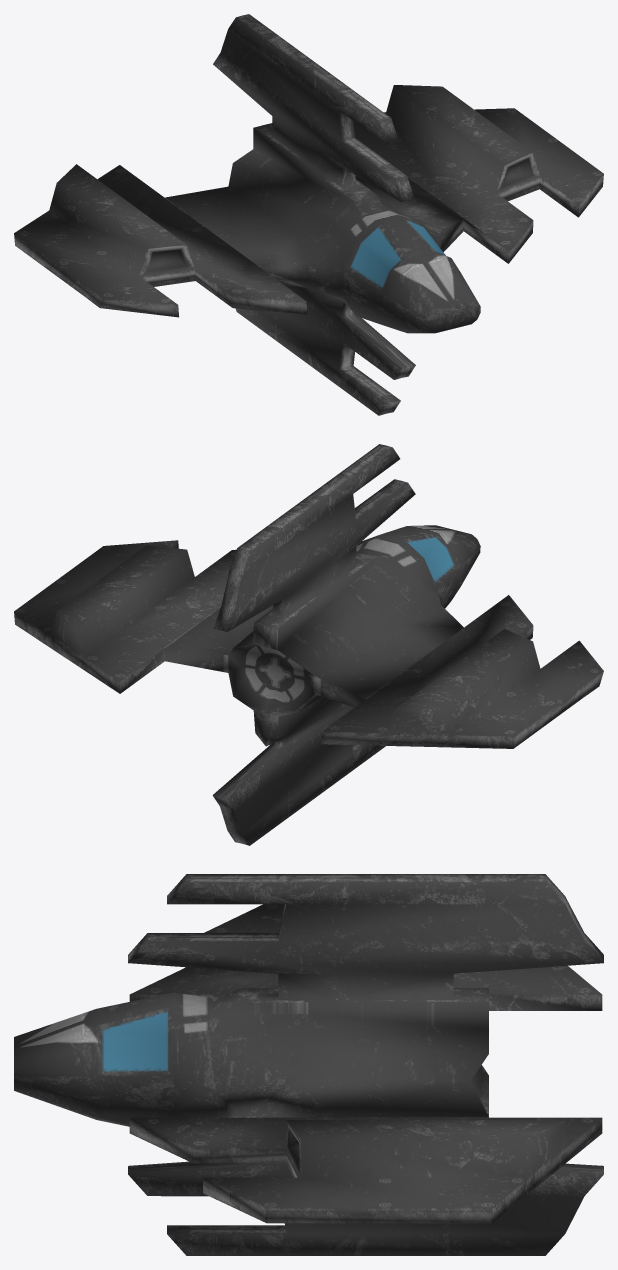
File: StrikeBack.mtl.obj
3 renders of one model, top to bottom at view 1: azimuth 30°, elevation 25°; view 2: azimuth 150°, elevation 25°; view 3: azimuth 270°, elevation 25°, orthographic. The views are drawn at different scales.
Parts seen in each view (by area): view 1: SSStrikeback.001_Cylinder.006; view 2: SSStrikeback.001_Cylinder.006; view 3: SSStrikeback.001_Cylinder.006.
Boxes of the visible parts, left/top/right/bottom form: SSStrikeback.001_Cylinder.006: left=14, top=14, right=603, bottom=415; SSStrikeback.001_Cylinder.006: left=14, top=444, right=603, bottom=845; SSStrikeback.001_Cylinder.006: left=14, top=874, right=603, bottom=1255.
Bounding box in the file's own units: 10.9 × 6.14 × 8.81.
